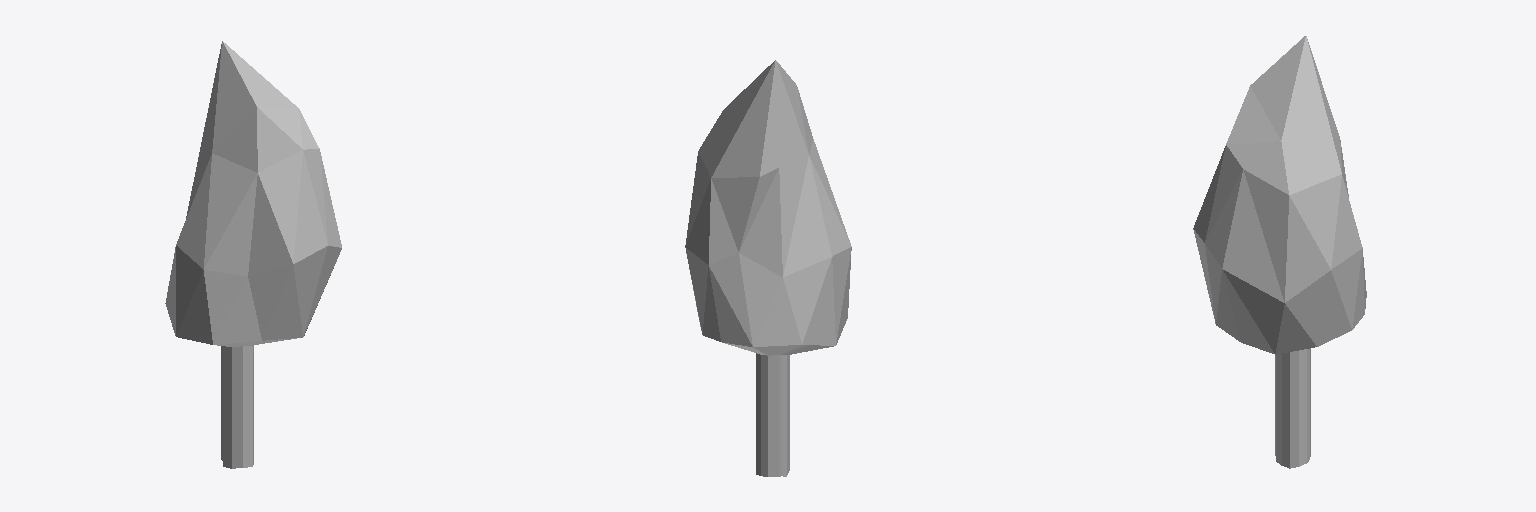
The model's file is tree.obj.
3 renders of one model, left to right at view 1: azimuth 30°, elevation 25°; view 2: azimuth 150°, elevation 25°; view 3: azimuth 270°, elevation 25°, orthographic.
Parts seen in each view (by area): view 1: tree1; view 2: tree1; view 3: tree1.
Part boxes in pixels (x1,y1,x2,y2): tree1: (165, 41, 341, 468); tree1: (685, 60, 851, 476); tree1: (1193, 36, 1366, 468).
Size of the model in its own units: 73.6 by 200 by 74.65.